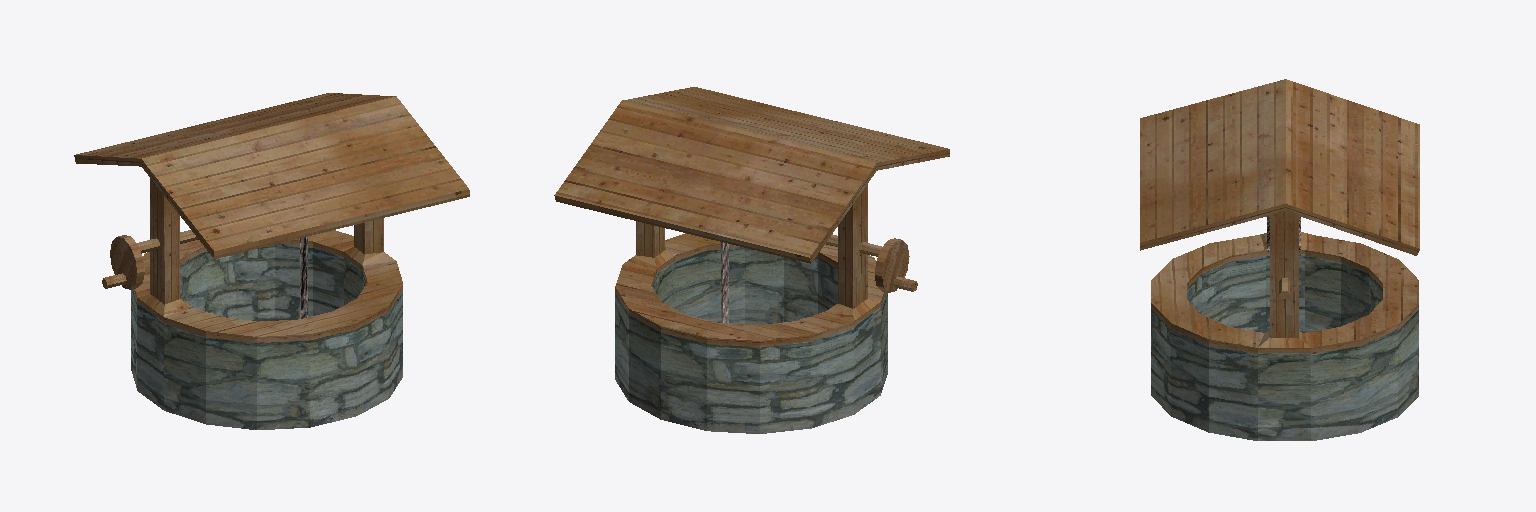
The picture shows the model from 3 angles: view 1: azimuth 30°, elevation 25°; view 2: azimuth 150°, elevation 25°; view 3: azimuth 270°, elevation 25°; orthographic projection.
Parts seen in each view (by area): view 1: default; view 2: default; view 3: default.
Part boxes in pixels (x1,y1,x2,y2): default: (74, 93, 469, 429); default: (554, 87, 949, 433); default: (1140, 79, 1419, 440).
Bounding box in the file's own units: 92.08 × 72.18 × 74.89.
1 materials, 1 textured.